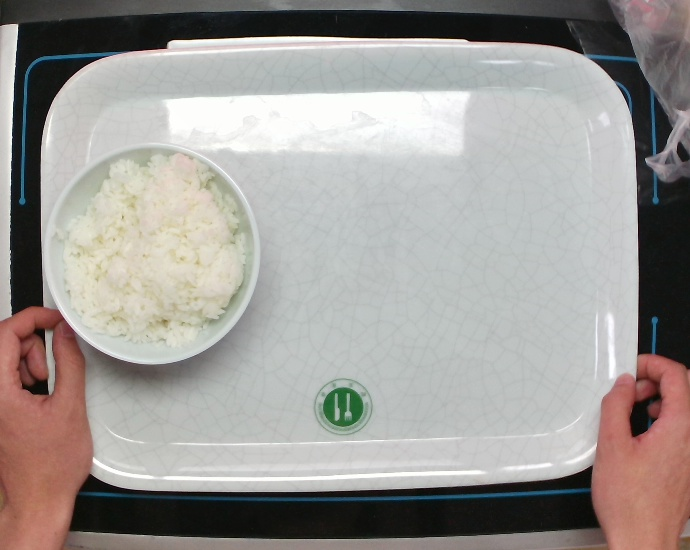JYsf-Fan_Wan: (40, 139, 264, 368)
